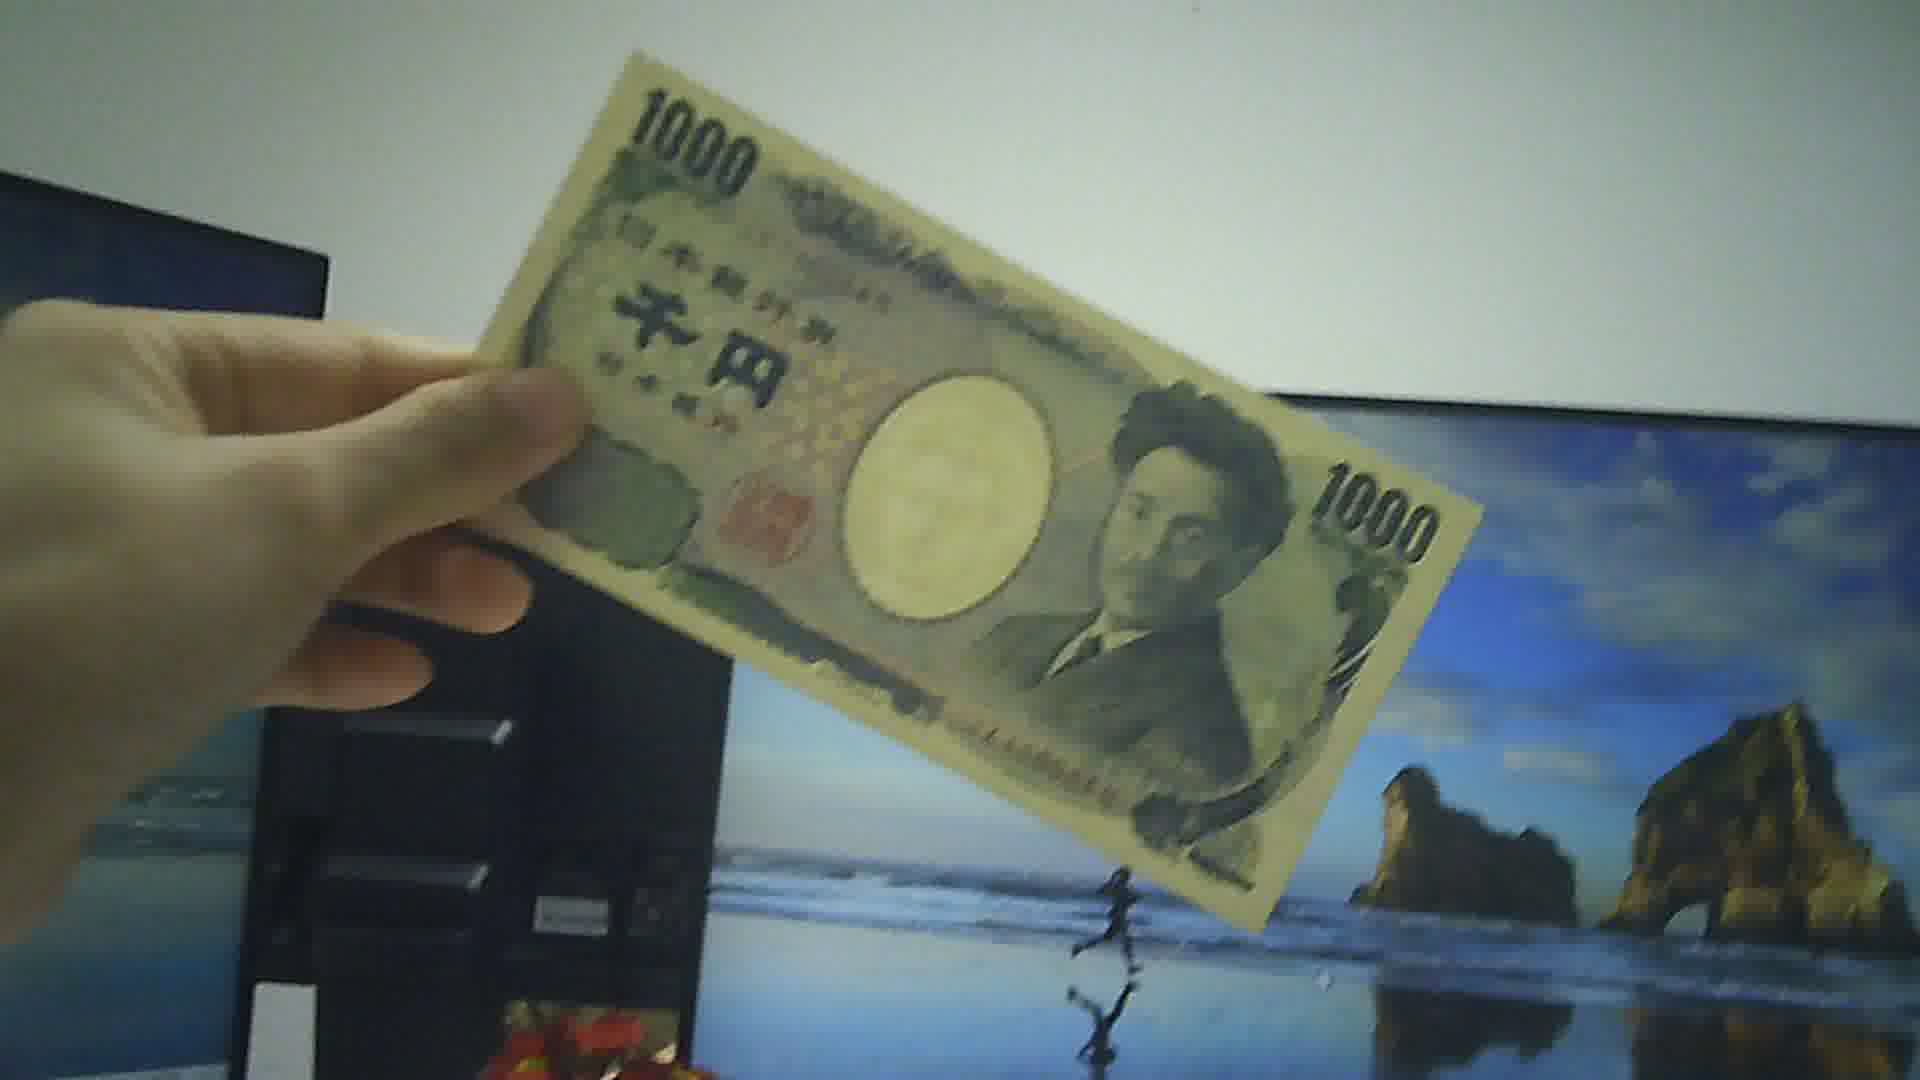1,000 Yen: (418, 46, 1494, 942)
